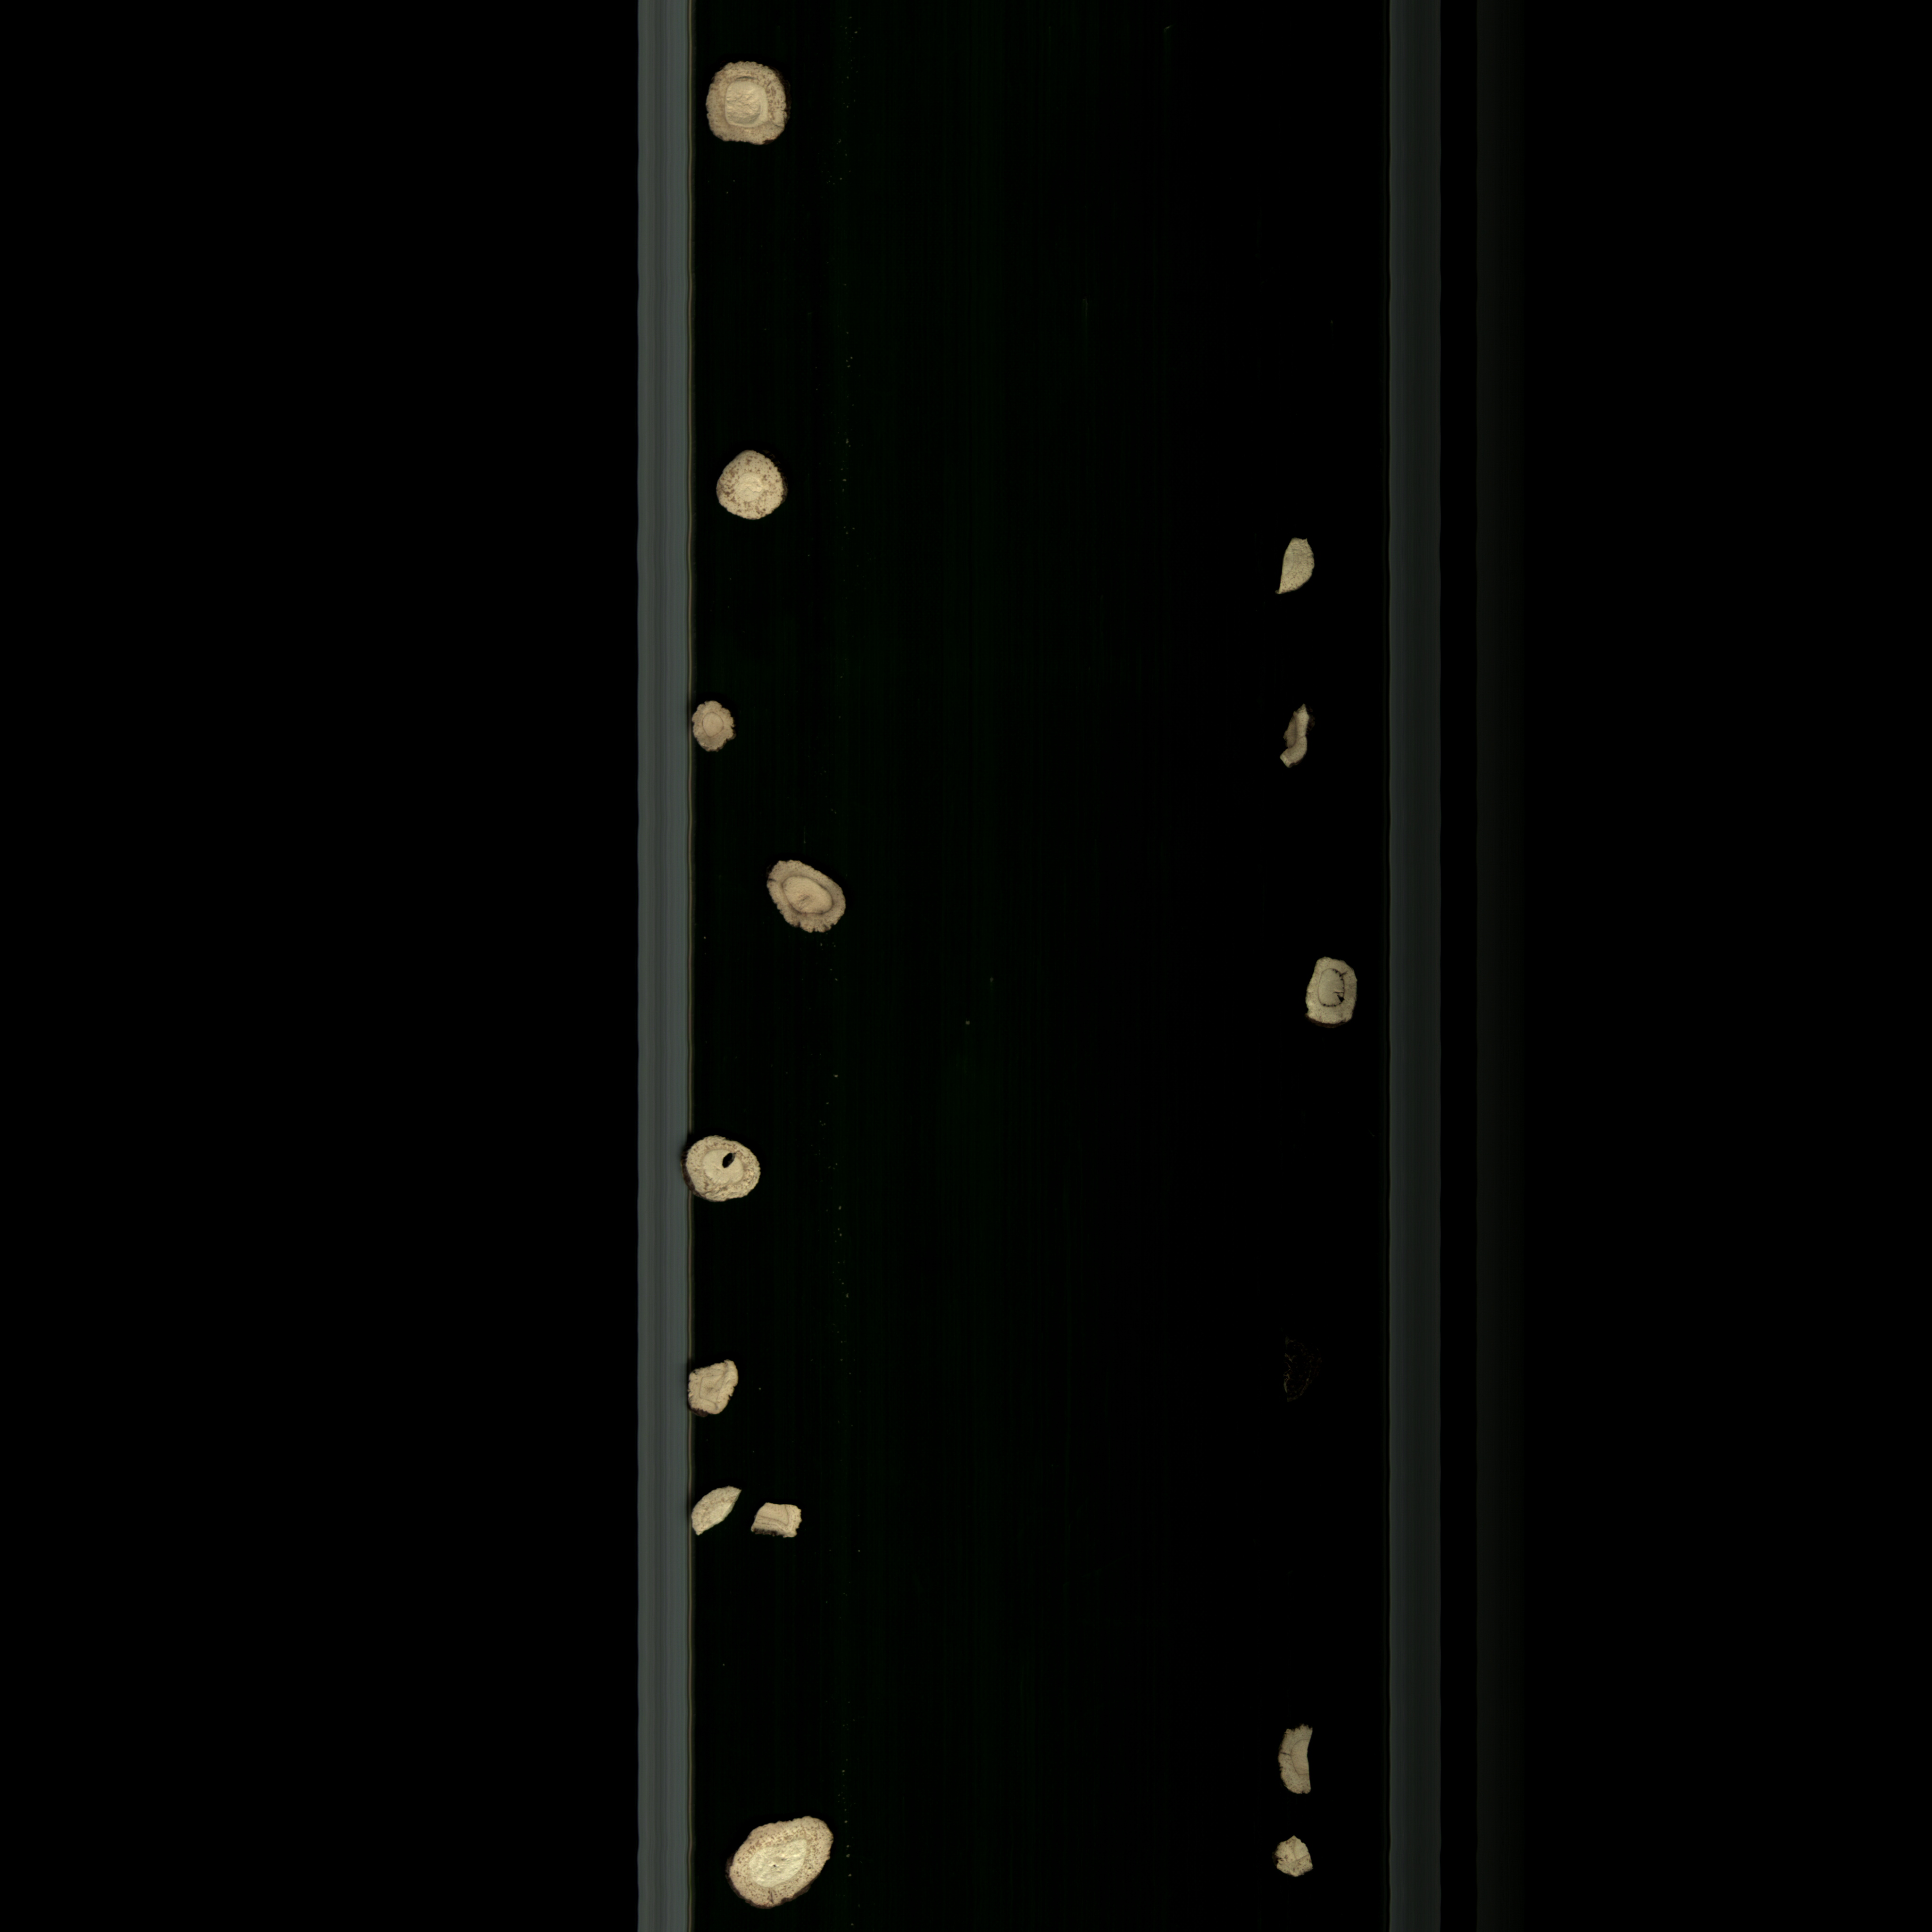debris: (674, 1350, 747, 1437), (1269, 1711, 1323, 1806)
distortion: (718, 1810, 858, 1916), (692, 692, 750, 777)
dreg: (1254, 527, 1336, 610), (743, 1499, 828, 1559), (1269, 1824, 1338, 1891), (685, 1470, 741, 1552)
hole: (672, 1120, 782, 1221)
moldy: (750, 846, 872, 954), (697, 57, 805, 161), (1295, 947, 1364, 1039), (1276, 697, 1315, 780)
